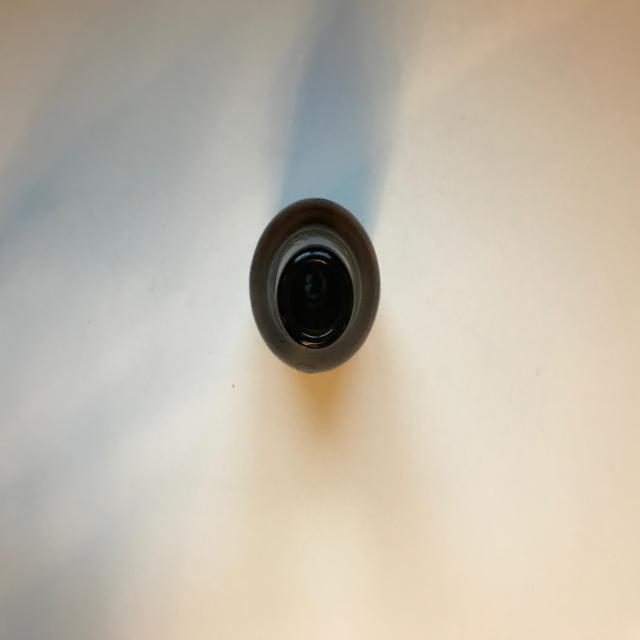glass: (248, 196, 382, 374)
